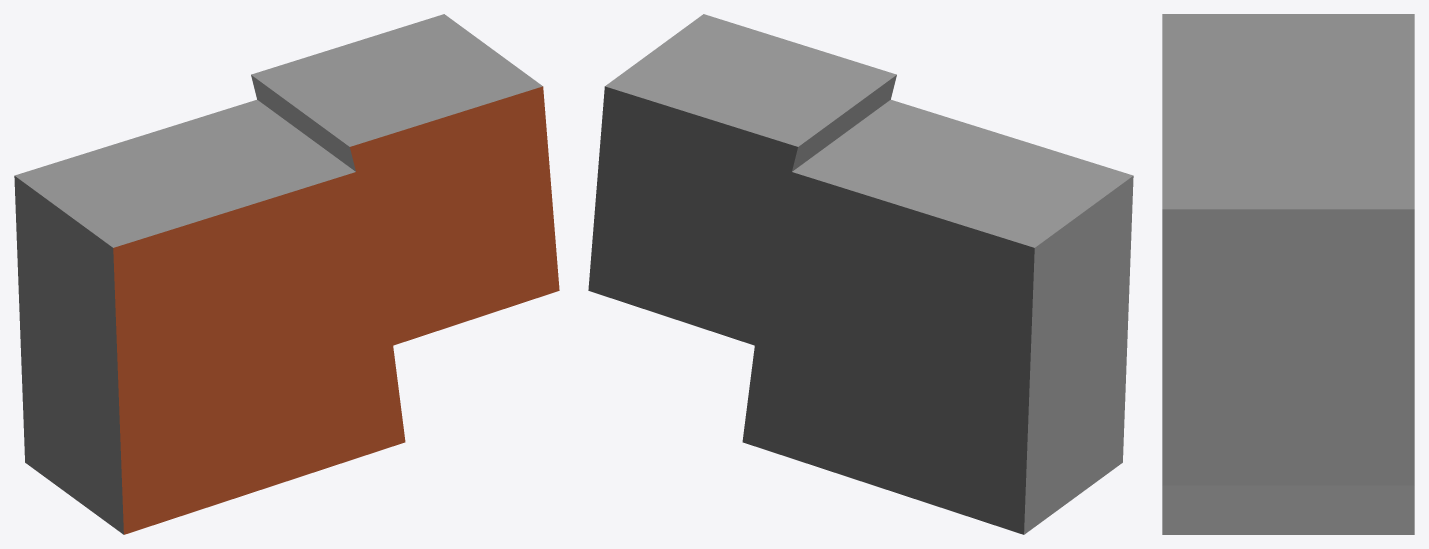
File: construction_5679_assumed_A_Casa_h6m.obj
3 renders of one model, left to right at view 1: azimuth 30°, elevation 25°; view 2: azimuth 150°, elevation 25°; view 3: azimuth 270°, elevation 25°, orthographic. The views are drawn at different scales.
Parts seen in each view (by area): view 1: construction_5679_assumed_A_Casa; view 2: construction_5679_assumed_A_Casa; view 3: construction_5679_assumed_A_Casa.
Part boxes in pixels (box(x1,y1,x2,y2)): construction_5679_assumed_A_Casa: box(14, 14, 559, 534); construction_5679_assumed_A_Casa: box(588, 14, 1133, 534); construction_5679_assumed_A_Casa: box(1162, 14, 1414, 534).
Bounding box in the file's own units: 15.64 × 11.6 × 6.
